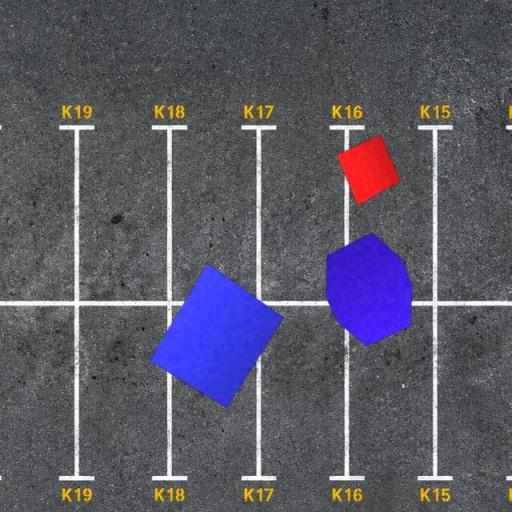BLUE_SQUARE: (149, 262, 285, 409)
RED_SQUARE: (336, 134, 402, 206)
